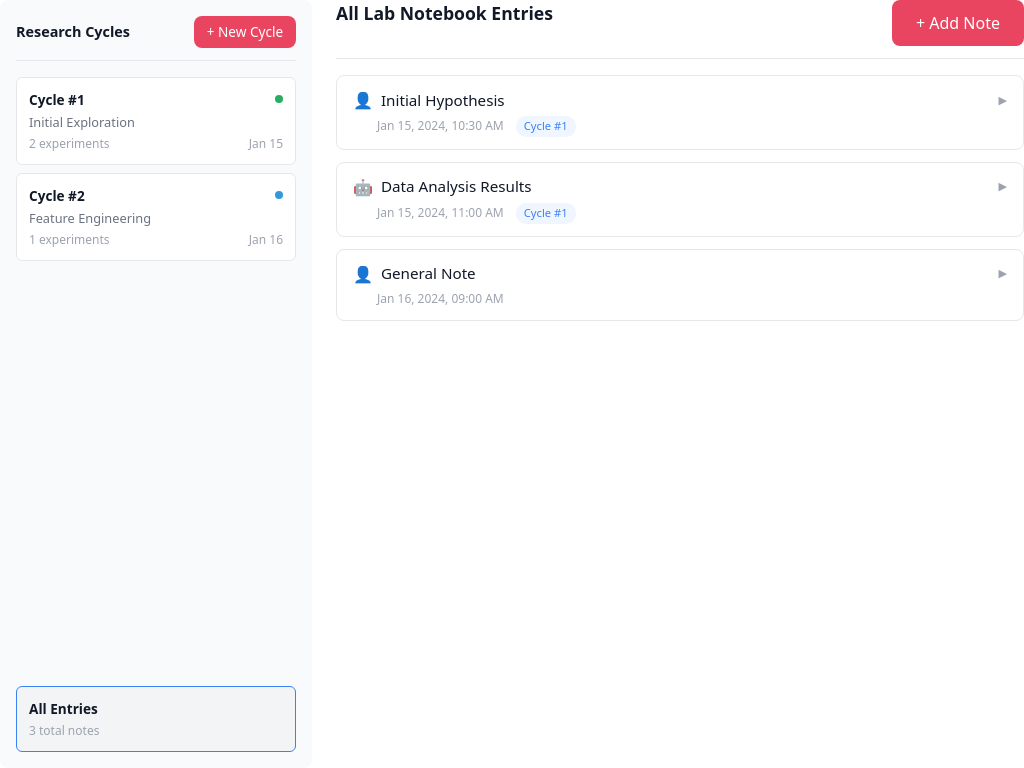
ResearchNotebook › opens add entry modal when clicking Add Note button
Click the button "+ Add Note": (958, 23) [892,0,1023,46]
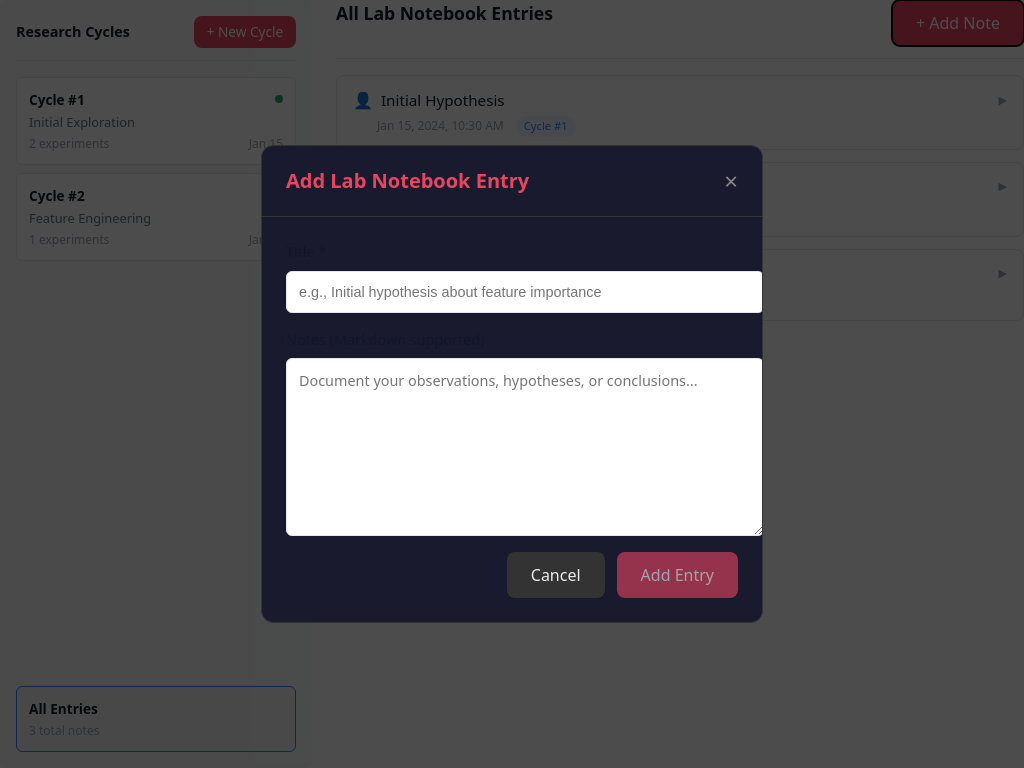
Check: the heading "Add Lab Notebook Entry" is shown, box [286,166,529,196]
Check: the field labelled "Title *" is shown, box [286,270,763,312]
Check: the text box labelled "Notes (Markdown supported)" is shown, box [286,358,763,536]
